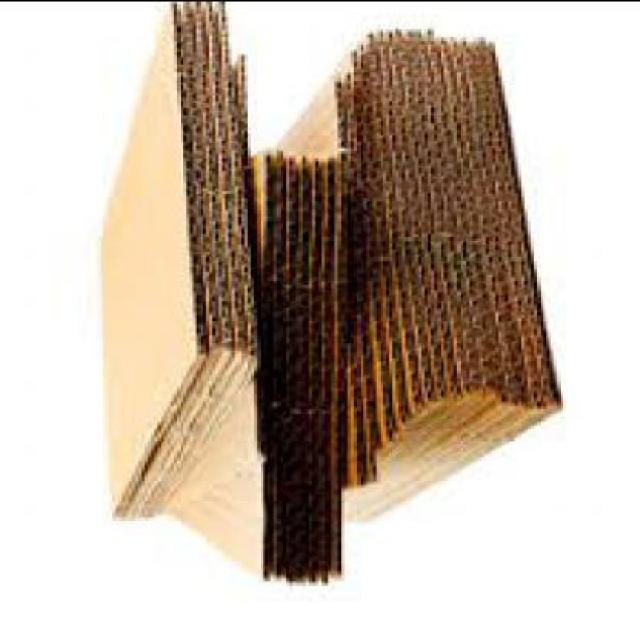CARDBOARD: (258, 30, 559, 521), (94, 3, 260, 523), (382, 38, 556, 516), (173, 155, 344, 587), (100, 2, 203, 520), (126, 2, 219, 520), (382, 40, 482, 511), (142, 2, 225, 513), (386, 36, 476, 501), (181, 157, 276, 585), (158, 4, 235, 510), (174, 59, 251, 506), (267, 81, 338, 488), (341, 55, 379, 517), (322, 159, 341, 579), (287, 157, 305, 581), (302, 159, 318, 584), (271, 157, 286, 581), (345, 84, 360, 488), (351, 83, 366, 486)
